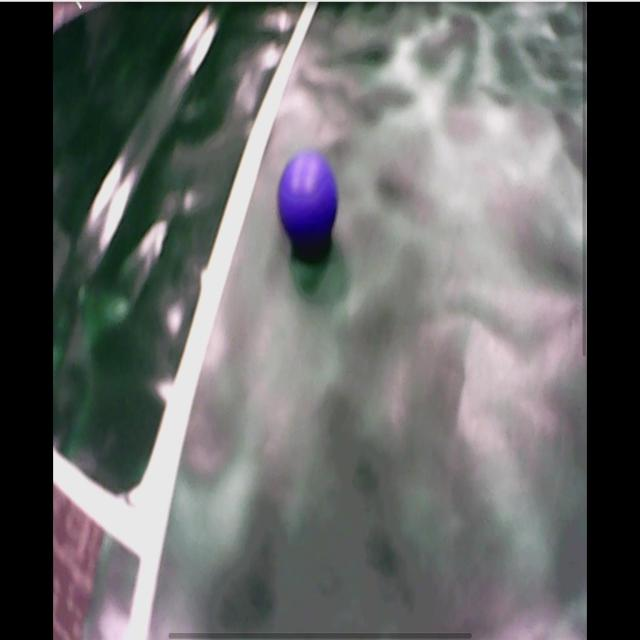ball: (279, 154, 338, 245)
